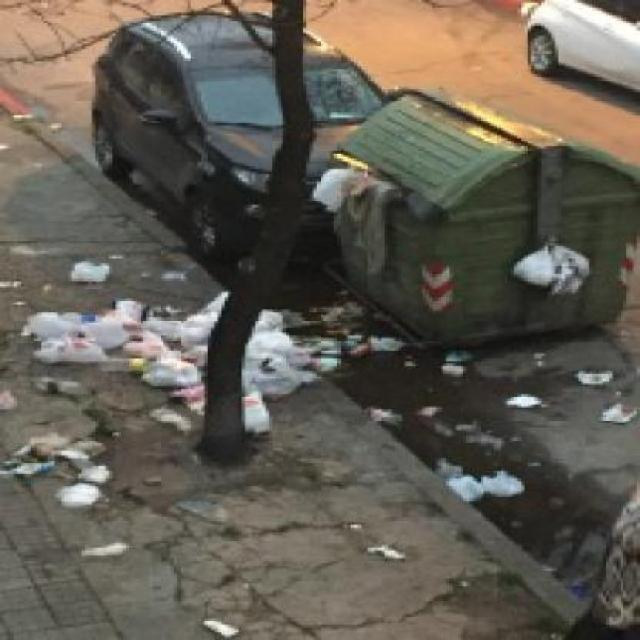garbage: (22, 300, 216, 382), (242, 309, 300, 434), (21, 431, 116, 500), (311, 157, 389, 211), (311, 305, 392, 353), (435, 459, 526, 500), (514, 239, 592, 280), (368, 397, 442, 422), (72, 258, 120, 286), (362, 536, 396, 572), (82, 543, 156, 556), (205, 616, 236, 639)
